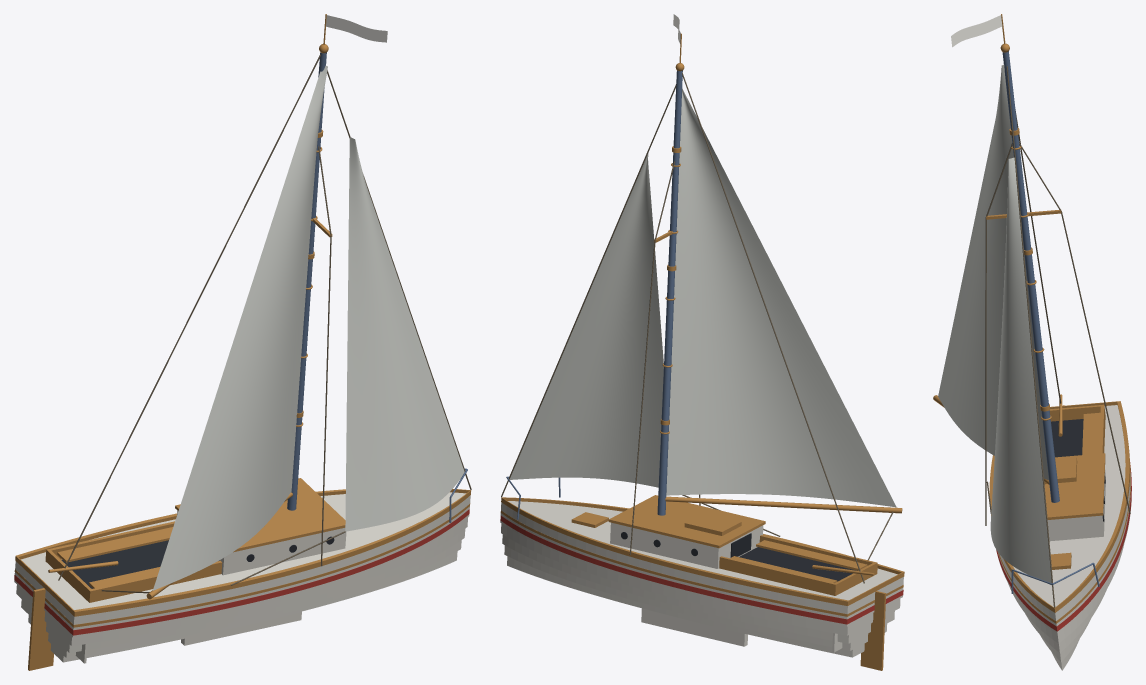
The model's file is sailboat.glb.
3 views of the same model, side by side, from view 1: azimuth 30°, elevation 25°; view 2: azimuth 150°, elevation 25°; view 3: azimuth 270°, elevation 25° (orthographic). The views are drawn at different scales.
Parts seen in each view (by area): view 1: mainsail, jib, hull, deck, gunwale, cabin_trim, stripe_red, cabin_house, mast_spar, cockpit_well, stripe_wood, rudder_blade (+8 smaller); view 2: mainsail, jib, hull, deck, cabin_trim, gunwale, mast_spar, cabin_house, stripe_red, coaming_0, keel, cockpit_well (+8 smaller); view 3: mainsail, jib, deck, hull, mast_spar, cabin_trim, gunwale, cabin_house, forestay, cockpit_well, stripe_red, bench_0 (+8 smaller).
Part boxes in pixels (bbox=[...]): mainsail: bbox=[153, 65, 327, 590]; jib: bbox=[345, 137, 464, 531]; hull: bbox=[14, 495, 470, 662]; deck: bbox=[21, 492, 465, 609]; gunwale: bbox=[15, 489, 471, 616]; cabin_trim: bbox=[175, 478, 345, 552]; stripe_red: bbox=[14, 509, 469, 635]; cabin_house: bbox=[177, 510, 346, 575]; mast_spar: bbox=[287, 52, 326, 510]; cockpit_well: bbox=[61, 540, 168, 588]; stripe_wood: bbox=[14, 503, 470, 627]; rudder_blade: bbox=[28, 588, 53, 670]; mainsail: bbox=[666, 89, 896, 507]; jib: bbox=[509, 153, 663, 487]; hull: bbox=[500, 502, 903, 657]; deck: bbox=[508, 501, 897, 600]; cabin_trim: bbox=[608, 495, 765, 548]; gunwale: bbox=[501, 497, 904, 605]; mast_spar: bbox=[657, 70, 682, 515]; cabin_house: bbox=[610, 522, 763, 568]; stripe_red: bbox=[500, 515, 903, 624]; coaming_0: bbox=[719, 556, 835, 595]; keel: bbox=[641, 608, 747, 646]; cockpit_well: bbox=[739, 547, 857, 581]; mainsail: bbox=[938, 65, 1048, 480]; jib: bbox=[990, 157, 1051, 585]; deck: bbox=[1013, 405, 1125, 606]; hull: bbox=[998, 473, 1131, 670]; mast_spar: bbox=[1002, 51, 1059, 502]; cabin_trim: bbox=[1044, 453, 1105, 519]; gunwale: bbox=[989, 401, 1130, 612]; cabin_house: bbox=[1047, 470, 1105, 541]; forestay: bbox=[1006, 66, 1055, 607]; cockpit_well: bbox=[1051, 419, 1083, 457]; stripe_red: bbox=[996, 462, 1131, 631]; bench_0: bbox=[1082, 412, 1100, 454].
Bounding box in the file's own units: 8.23 × 11.45 × 3.42.
